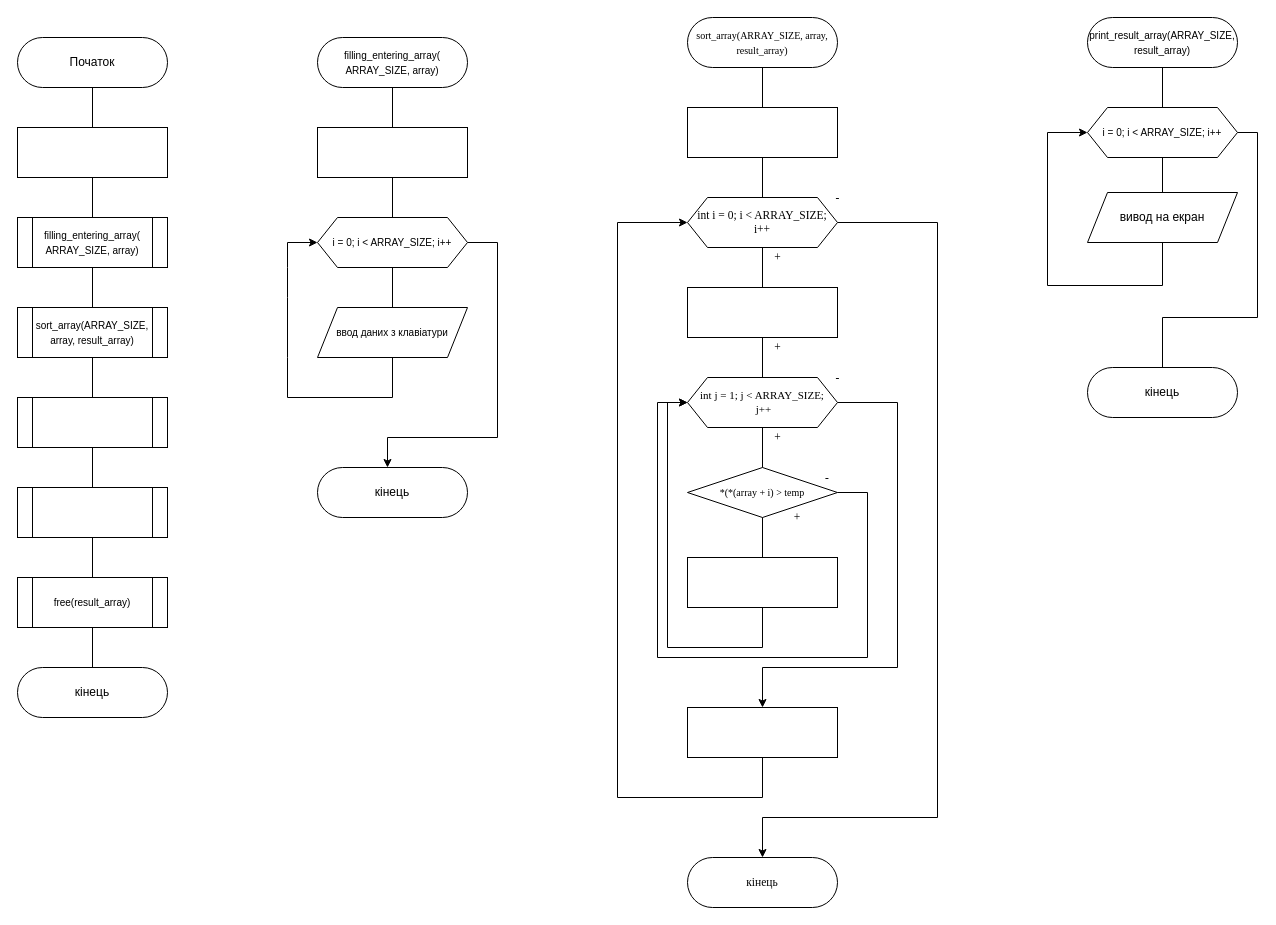
The diagram is 1276 pixels wide and 925 high, and some of its shapes have lost their labels. The centre of each missing label's shape, as x and y in pixels:
"* (result_array + i) = temp;" goes at [762,732].
"free(array)" goes at [92,512].
"print_result_array( ARRAY_SIZE, result_array)" goes at [92,422].
"temp = *(*(array + i))" goes at [762,582].
"temp=*(*(array + i))" goes at [762,312].
"оголошення змінної, масиву та покажчику на масив" goes at [762,132].
"оголошення масиву для зберігання даних з клавіатури" goes at [392,152].
"Оголошення масивів через показчики" goes at [92,152].
